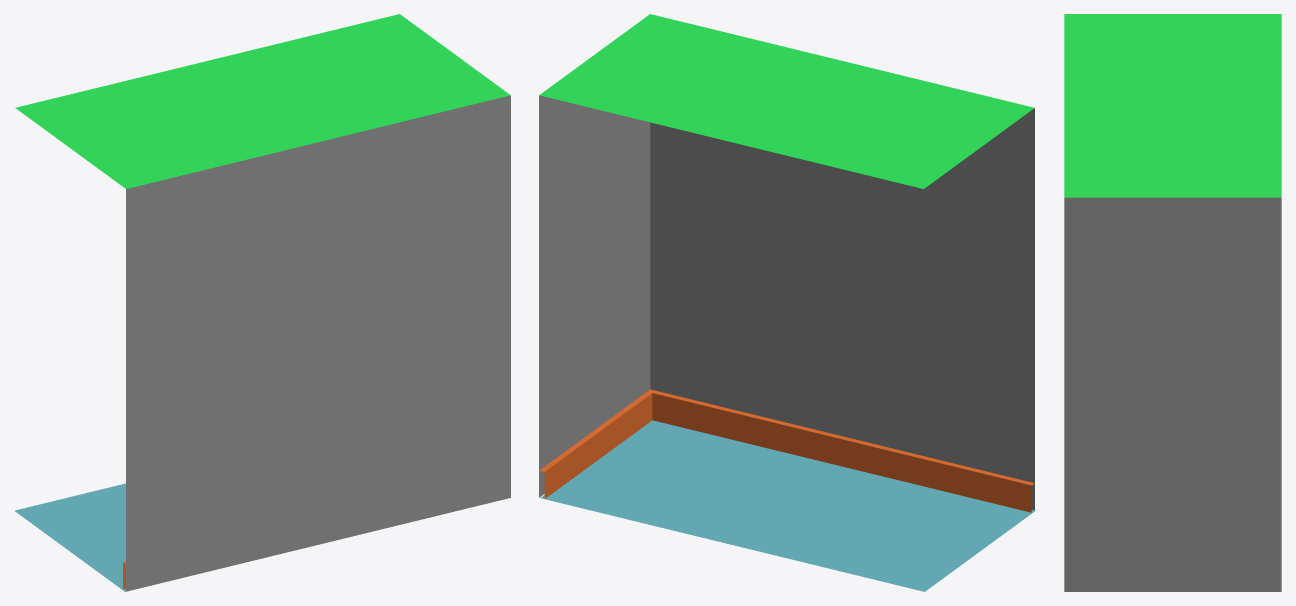
The model's file is ModuleD_corner02.FBX.
The picture shows the model from 3 angles, left to right: view 1: azimuth 30°, elevation 25°; view 2: azimuth 150°, elevation 25°; view 3: azimuth 270°, elevation 25°; orthographic projection. The views are drawn at different scales.
Visible parts, largest first — view 1: ModuleD_wall_08, ModuleD_roof03, ModuleD_floor02; view 2: ModuleD_wall_08, ModuleD_roof03, ModuleD_floor02, ModuleD_skboard_01; view 3: ModuleD_wall_08, ModuleD_roof03.
Part boxes in pixels (left/top/right/bottom): ModuleD_wall_08: left=126, top=95, right=510, bottom=591; ModuleD_roof03: left=15, top=14, right=510, bottom=188; ModuleD_floor02: left=14, top=483, right=125, bottom=591; ModuleD_wall_08: left=539, top=95, right=1034, bottom=510; ModuleD_roof03: left=539, top=14, right=1034, bottom=188; ModuleD_floor02: left=540, top=420, right=1035, bottom=591; ModuleD_skboard_01: left=539, top=389, right=1034, bottom=512; ModuleD_wall_08: left=1064, top=197, right=1281, bottom=591; ModuleD_roof03: left=1064, top=14, right=1281, bottom=197.
Size of the model in its own units: 78.93 by 39.37 by 78.74.
